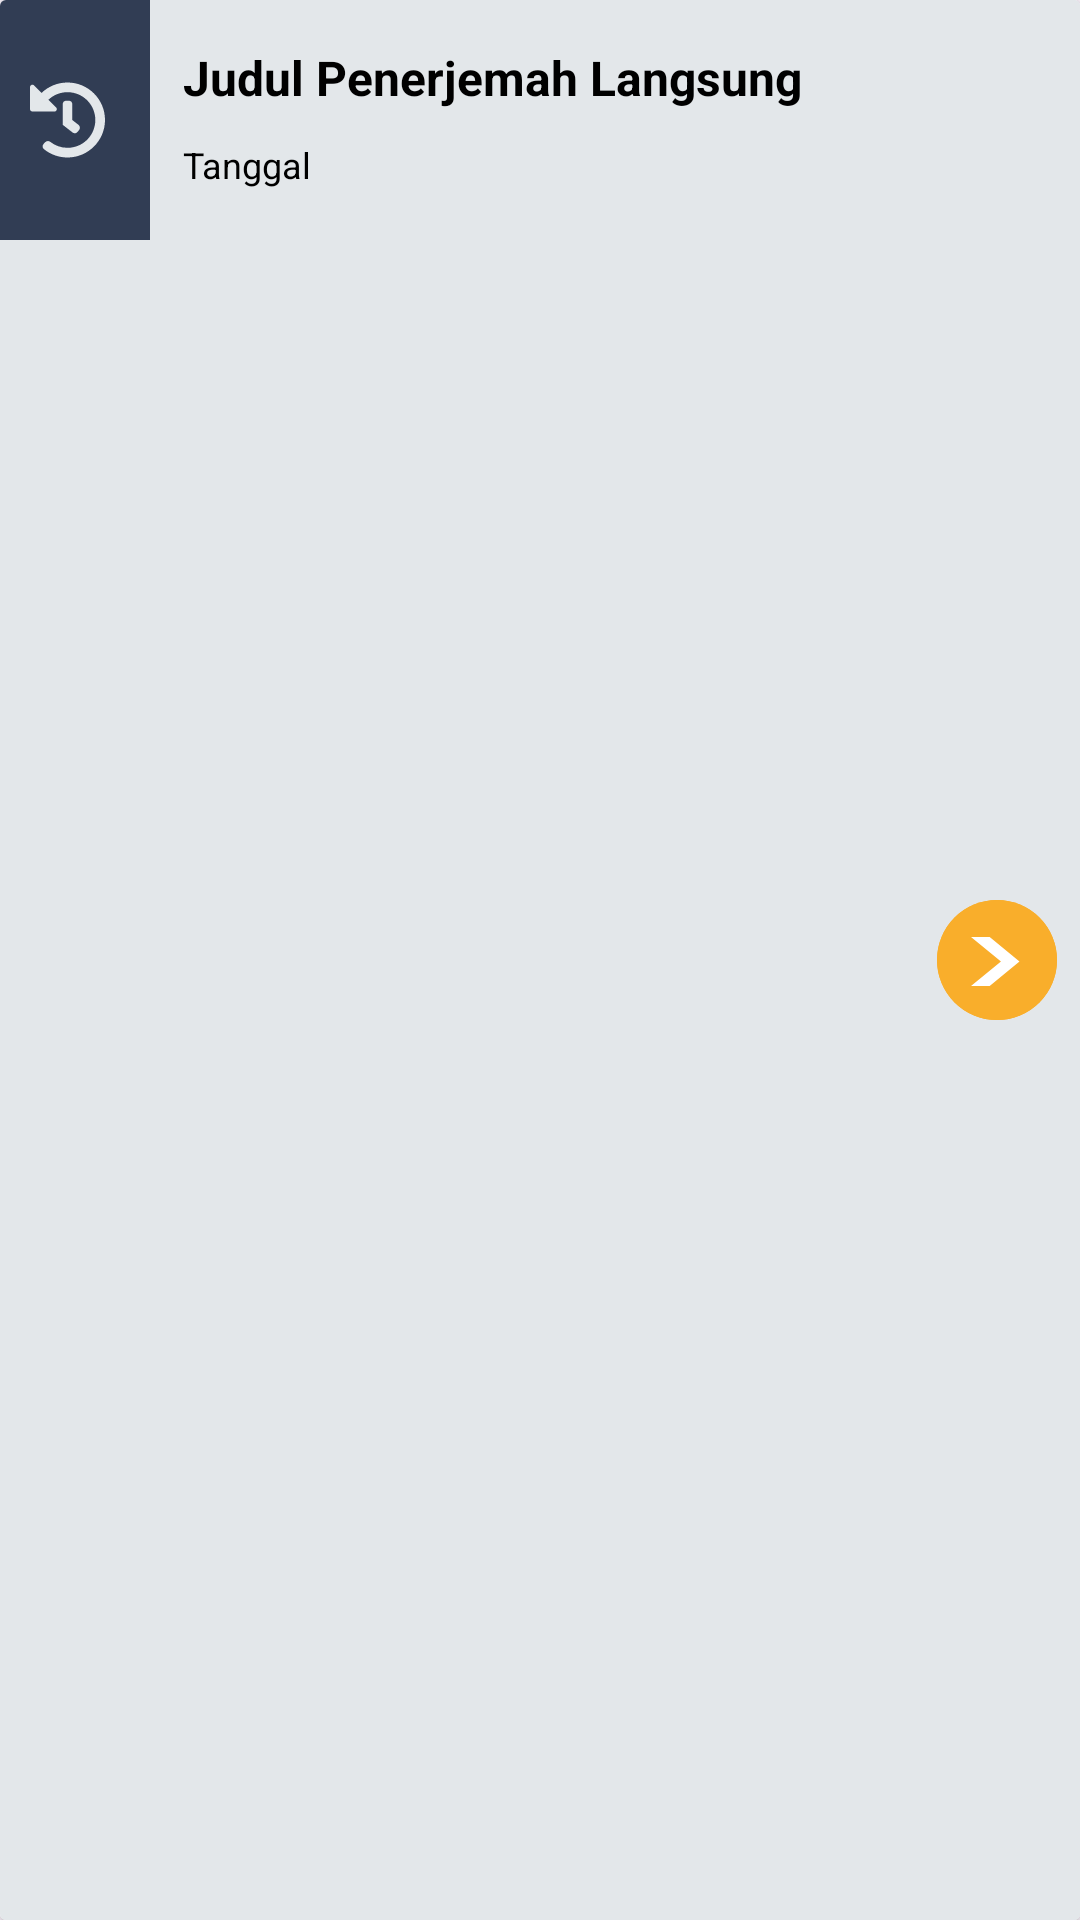

Named icons in this screenshot (1080×1920) and their centers, point (x, y):
arrow: point (997, 960)
history: point (67, 120)
